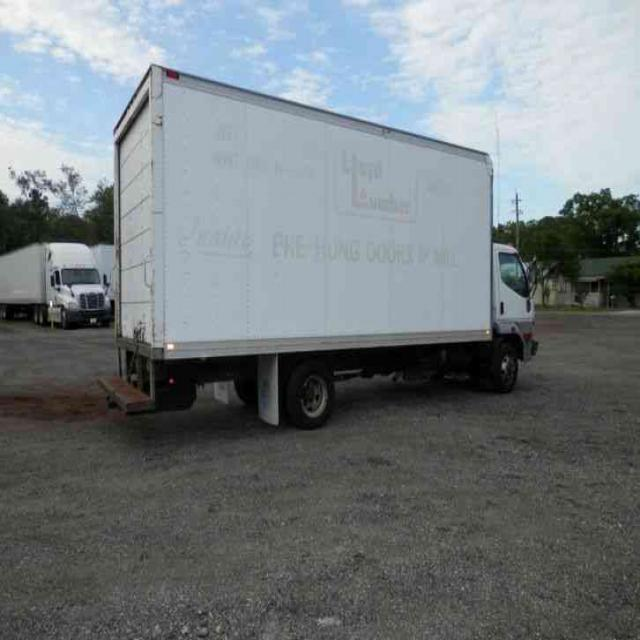truck: (106, 61, 541, 426), (0, 232, 115, 330)
